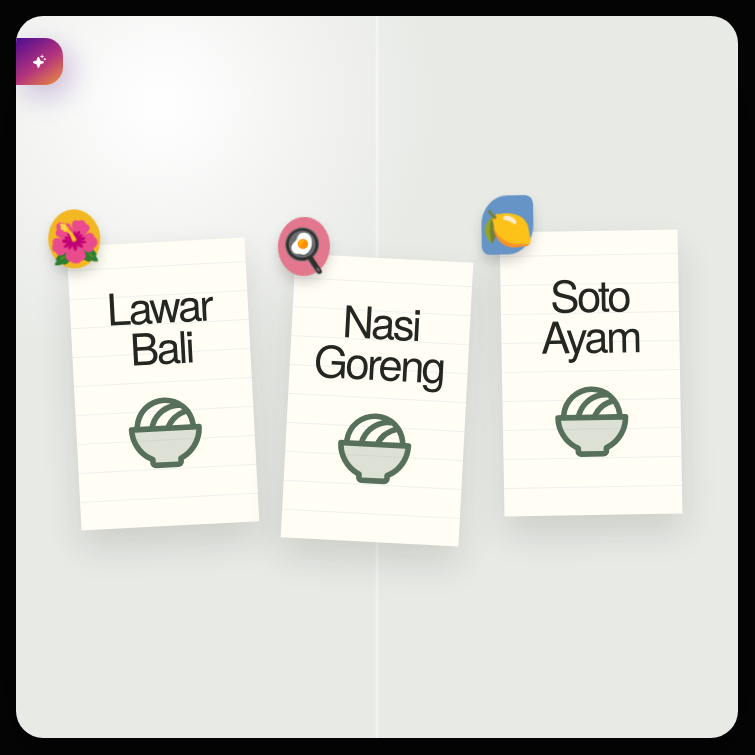
Test case: GrandkidsPage › opens Lawar Bali from the recipe fridge
Click the button with aria-label "open lawar bali": (163, 384) x1=66 y1=238 x2=259 y2=531
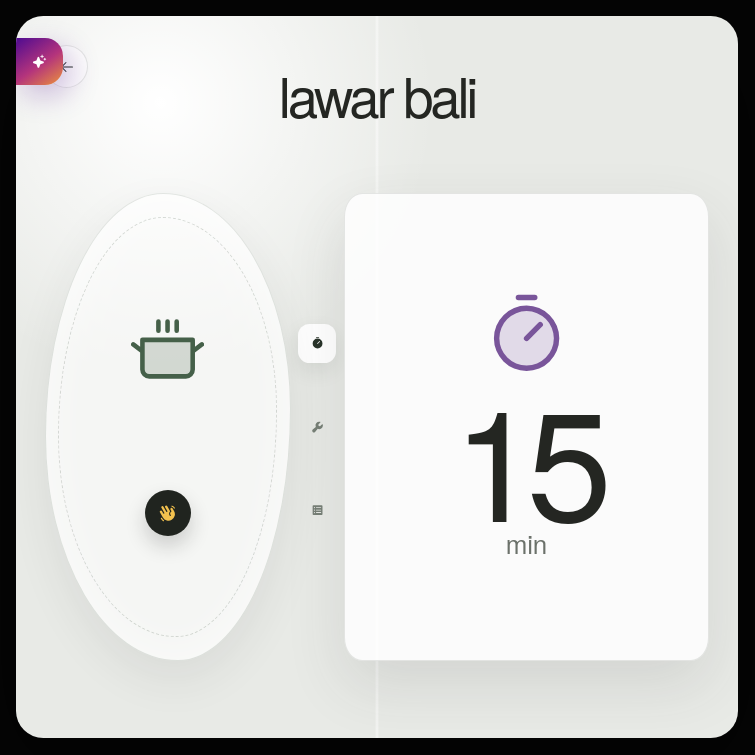
Expected: the heading "Lawar Bali" is shown, x1=279 y1=55 x2=475 y2=134
Now the text named "15 minutes" is shown, box x1=453 y1=394 x2=600 y2=517
